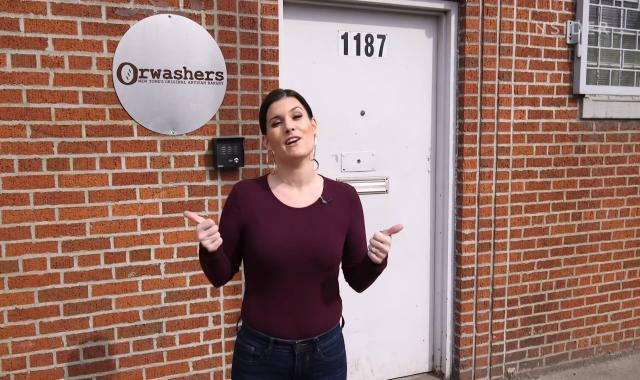no_hairnet: (256, 90, 319, 159)
